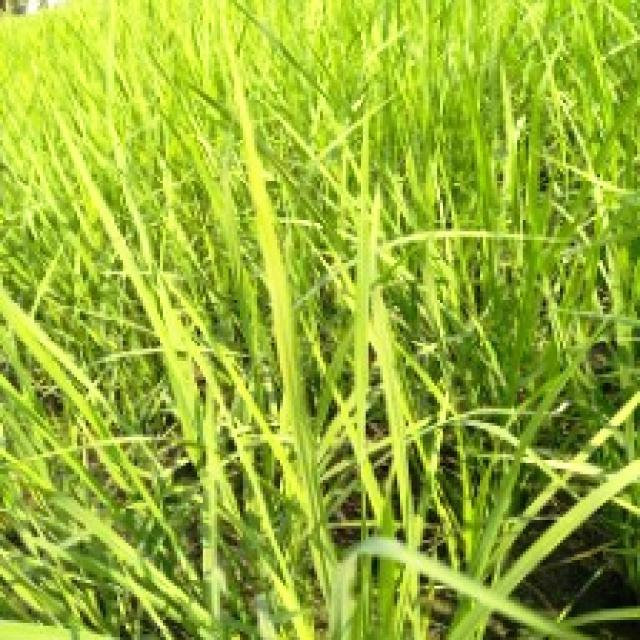health: (0, 1, 640, 294)
